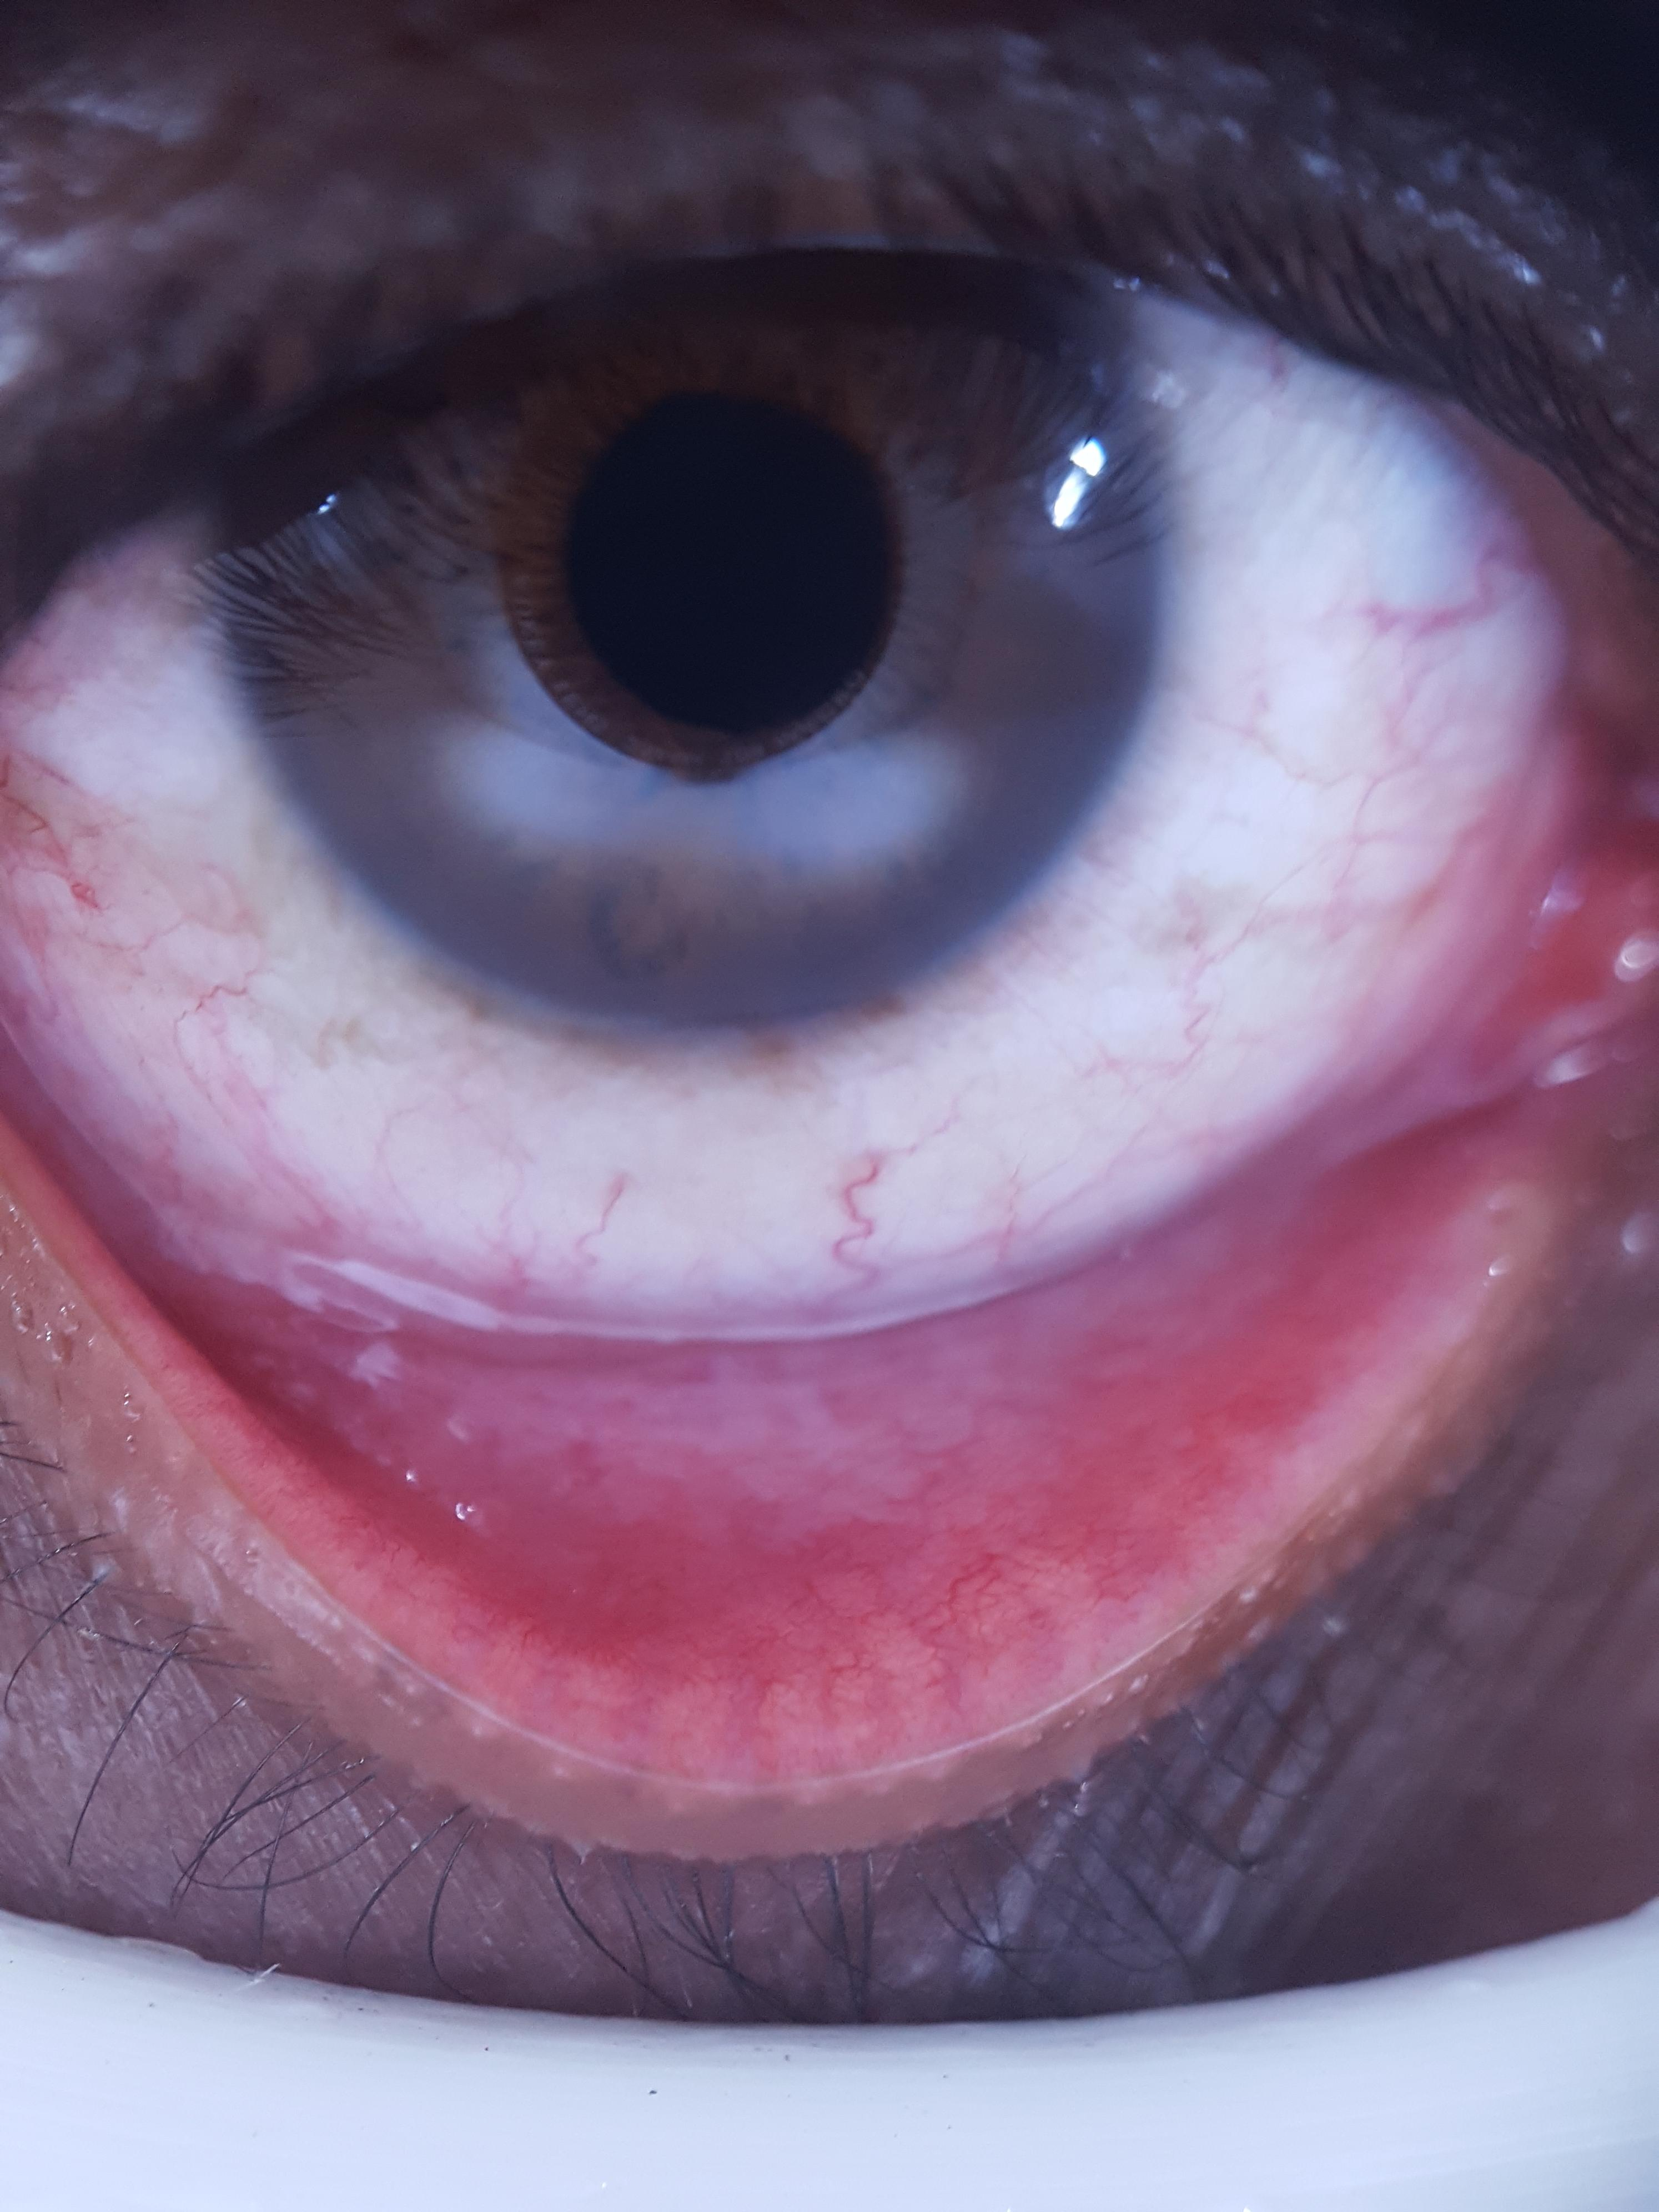forniceal: (0, 780, 1601, 1531)
forniceal_palpebral: (0, 773, 1659, 1728)
palpebral: (0, 826, 1659, 1719)
